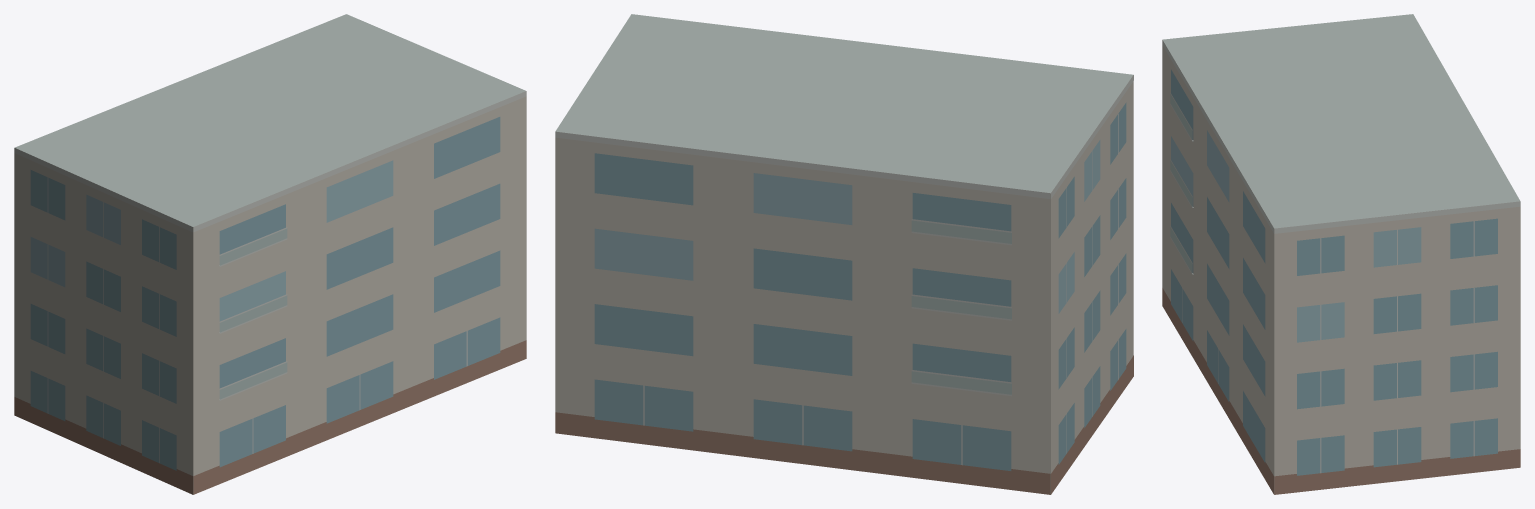
File: survey-upis-32955145.glb
3 views of the same model, side by side, from view 1: azimuth 30°, elevation 25°; view 2: azimuth 150°, elevation 25°; view 3: azimuth 270°, elevation 25° (orthographic). The views are drawn at different scales.
Visible parts, largest first — view 1: survey-upis-32955145.tmp; view 2: survey-upis-32955145.tmp; view 3: survey-upis-32955145.tmp.
Part boxes in pixels (box(x1,y1,x2,y2)): survey-upis-32955145.tmp: box(14, 14, 526, 494); survey-upis-32955145.tmp: box(555, 14, 1133, 494); survey-upis-32955145.tmp: box(1162, 14, 1520, 494).
Size of the model in its own units: 21.09 by 12.2 by 14.88.
